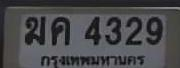2: (125, 16, 141, 44)
3: (104, 16, 120, 44)
4: (84, 15, 100, 44)
9: (145, 16, 162, 44)
A04: (50, 16, 69, 45)
A06: (24, 16, 45, 44)
BKK: (38, 52, 148, 68)
